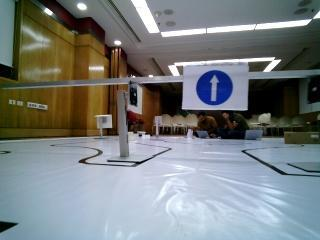straight: (180, 65, 247, 107)
